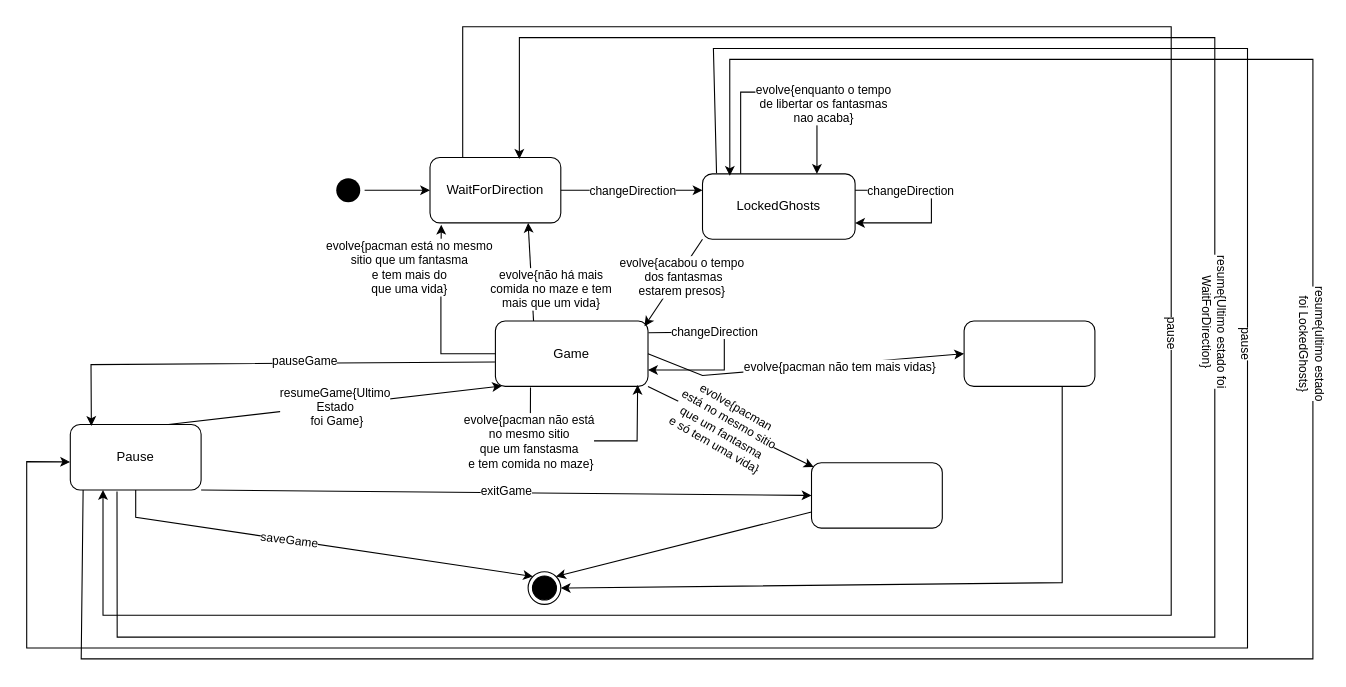
Some shapes in this 1346 by 687 pixel diagram are drawn without their labels. The centre of each missing label's shape, as x and y in pixels:
"GameOver" goes at (876,495).
"Ghost Vulnerable" goes at (1029,353).
